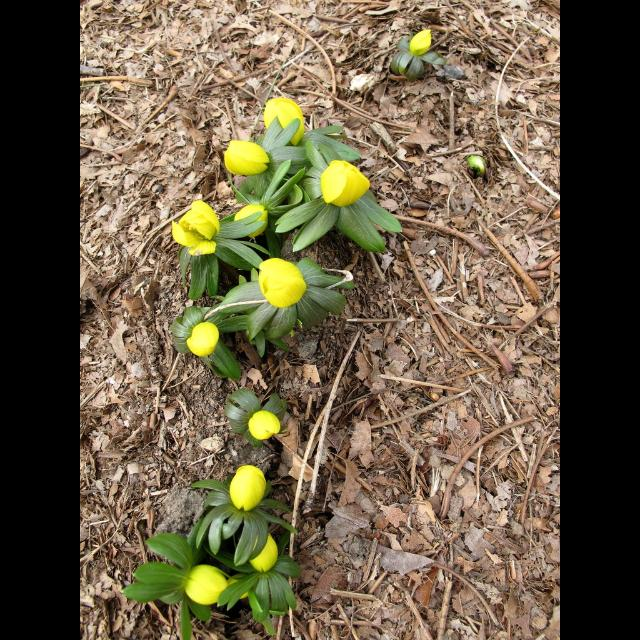Flower: (246, 246, 326, 308), (172, 200, 222, 256), (318, 161, 372, 207), (228, 459, 268, 511), (222, 138, 270, 178), (185, 565, 227, 609), (268, 97, 306, 141), (232, 202, 268, 242), (185, 321, 217, 363), (246, 410, 284, 444), (248, 530, 278, 572), (408, 32, 432, 56)
